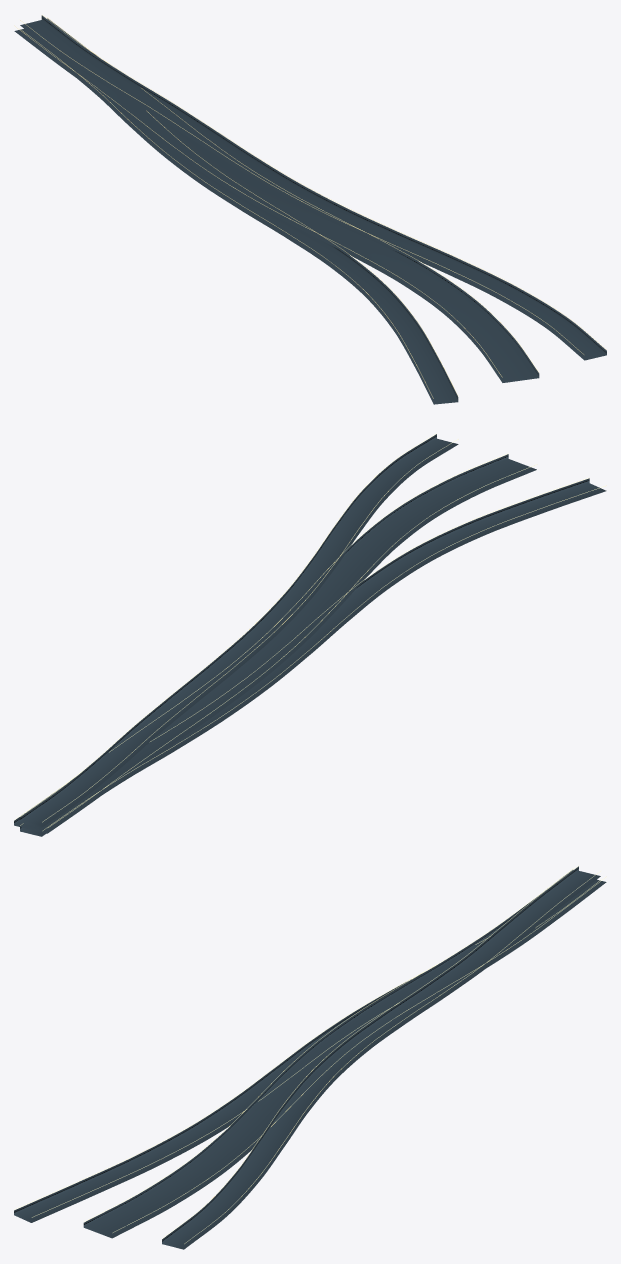
The model's file is landscape.glb.
The picture shows the model from 3 angles, top to bottom: view 1: azimuth 30°, elevation 25°; view 2: azimuth 150°, elevation 25°; view 3: azimuth 330°, elevation 25°; orthographic projection.
Parts seen in each view (by area): view 1: Bridge 0, Bridge 1, Bridge -1, Guiding edge 1 -1, Guiding edge 1 1; view 2: Bridge 0, Bridge 1, Bridge -1, Guiding edge -1 -1; view 3: Bridge 1, Bridge 0, Bridge -1.
Boxes of the visible parts, box(x1,y1,x2,y2) form: Bridge 0: box(14, 18, 539, 382); Bridge 1: box(20, 15, 606, 360); Bridge -1: box(78, 79, 458, 404); Guiding edge 1 -1: box(20, 20, 583, 354); Guiding edge 1 1: box(42, 15, 606, 349); Bridge 0: box(14, 454, 536, 833); Bridge 1: box(19, 434, 458, 827); Bridge -1: box(20, 478, 606, 836); Guiding edge -1 -1: box(43, 485, 606, 830); Bridge 1: box(162, 866, 600, 1249); Bridge 0: box(83, 870, 606, 1238); Bridge -1: box(14, 939, 487, 1222).
Bounding box in the file's own units: 24.46 × 3.75 × 120.
